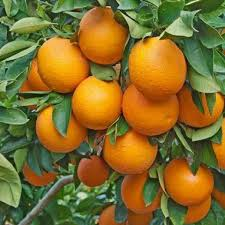orange: (129, 34, 186, 99), (122, 81, 179, 138), (33, 34, 88, 92), (100, 123, 159, 174), (78, 7, 128, 63), (32, 102, 86, 153), (164, 152, 215, 205), (75, 74, 123, 129), (175, 81, 225, 133), (120, 168, 165, 214), (77, 154, 110, 188)
